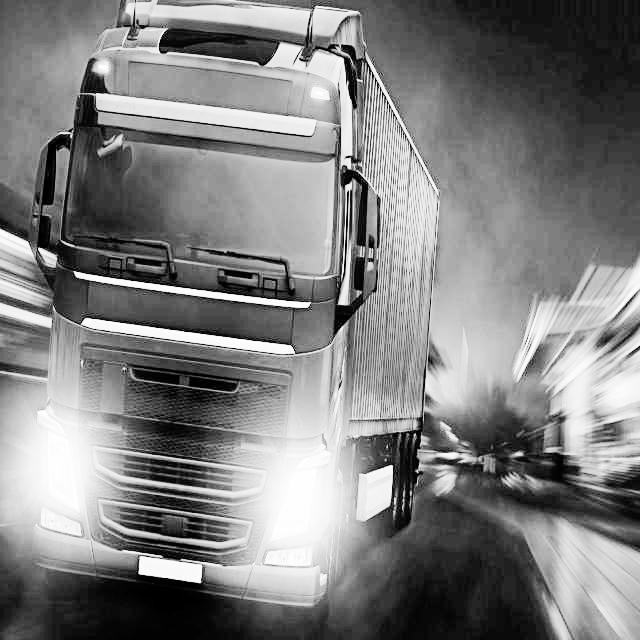Truck: (28, 1, 441, 625)
